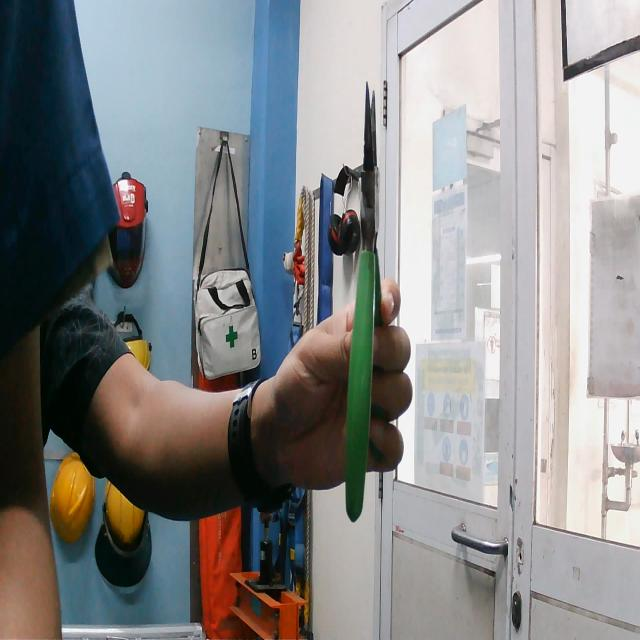tang_scun_hidrolik: (342, 68, 391, 527)
